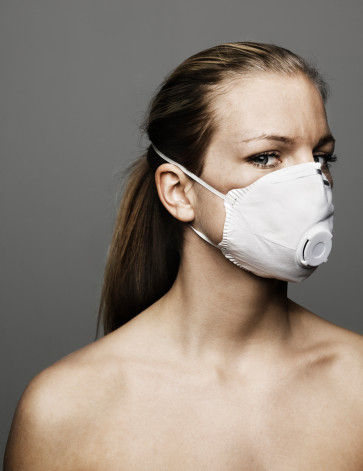face_mask: (199, 72, 334, 287)
